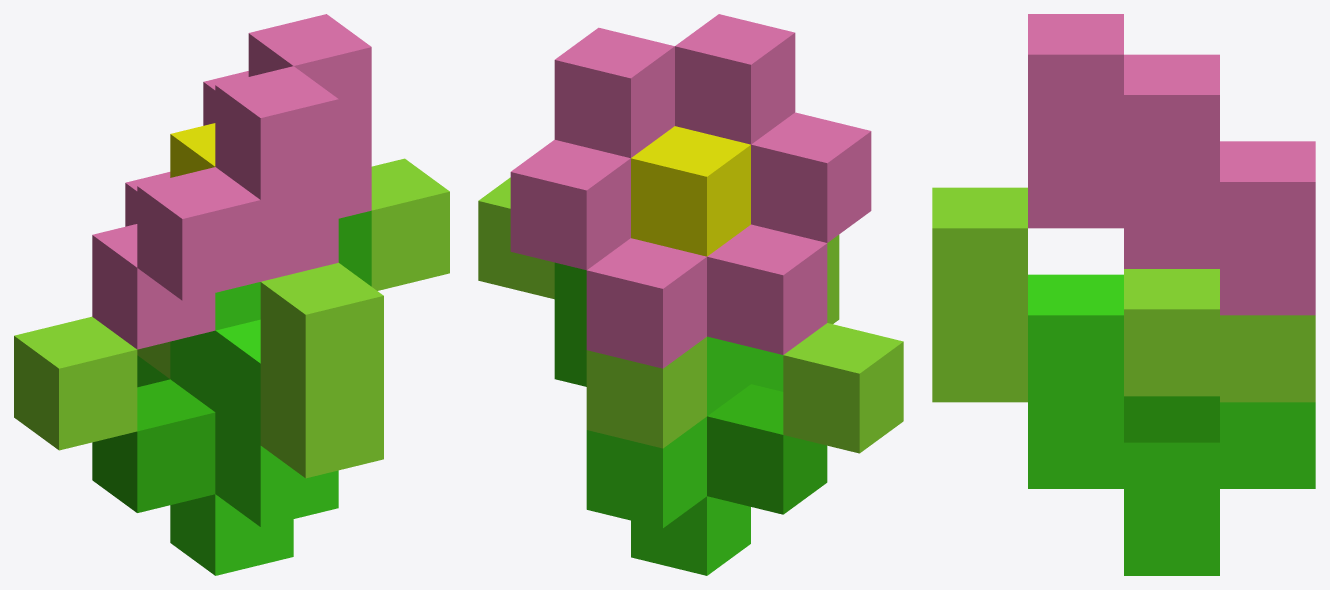
The model's file is tile-60.obj.
The picture shows the model from 3 angles, left to right: view 1: azimuth 30°, elevation 25°; view 2: azimuth 150°, elevation 25°; view 3: azimuth 270°, elevation 25°; orthographic projection. The views are drawn at different scales.
Size of the model in its own units: 0.5 by 0.6 by 0.4.
1 material, 1 textured.
